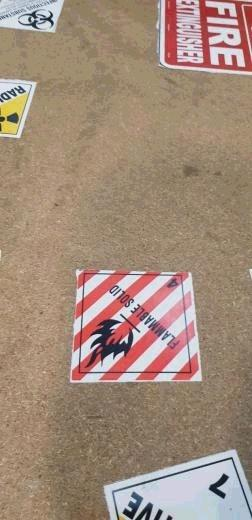flammable-solid: (70, 272, 198, 383)
infectious-substance: (1, 1, 62, 33)
radioactive: (1, 80, 38, 139)
